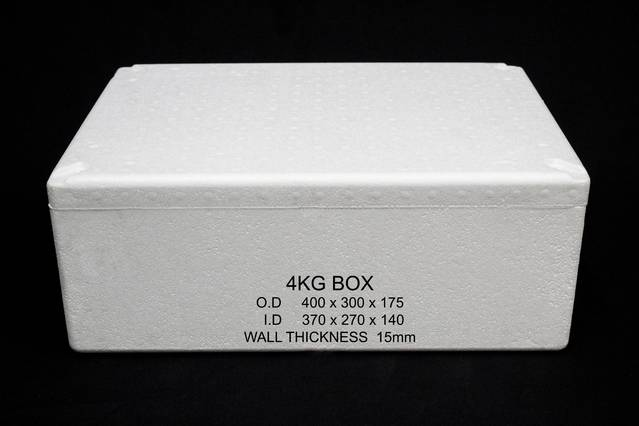泡沫箱: (47, 63, 588, 351)
